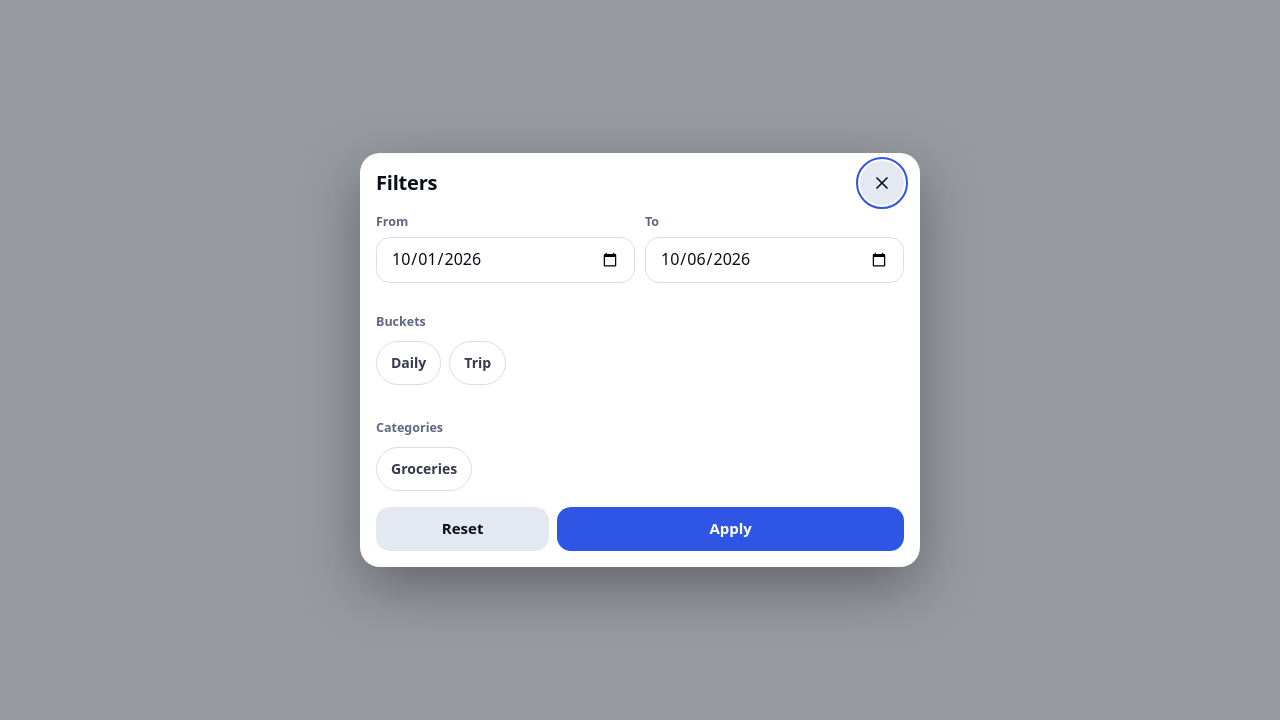
Scenario: RangeSheet › refuses From after To and an empty date
Type "2026-10-09" into the date field labelled "From" at (506, 260), box [376, 237, 635, 283]
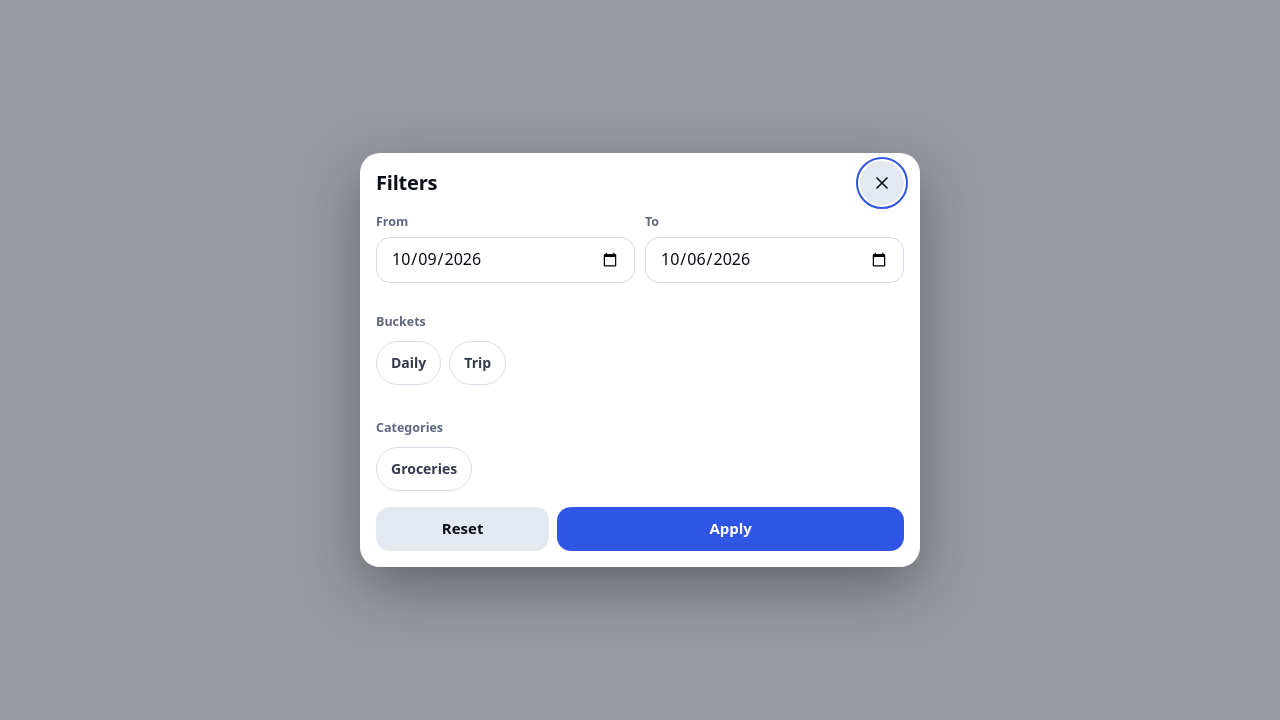
Click the button "Apply" at (731, 529), box [557, 507, 904, 551]
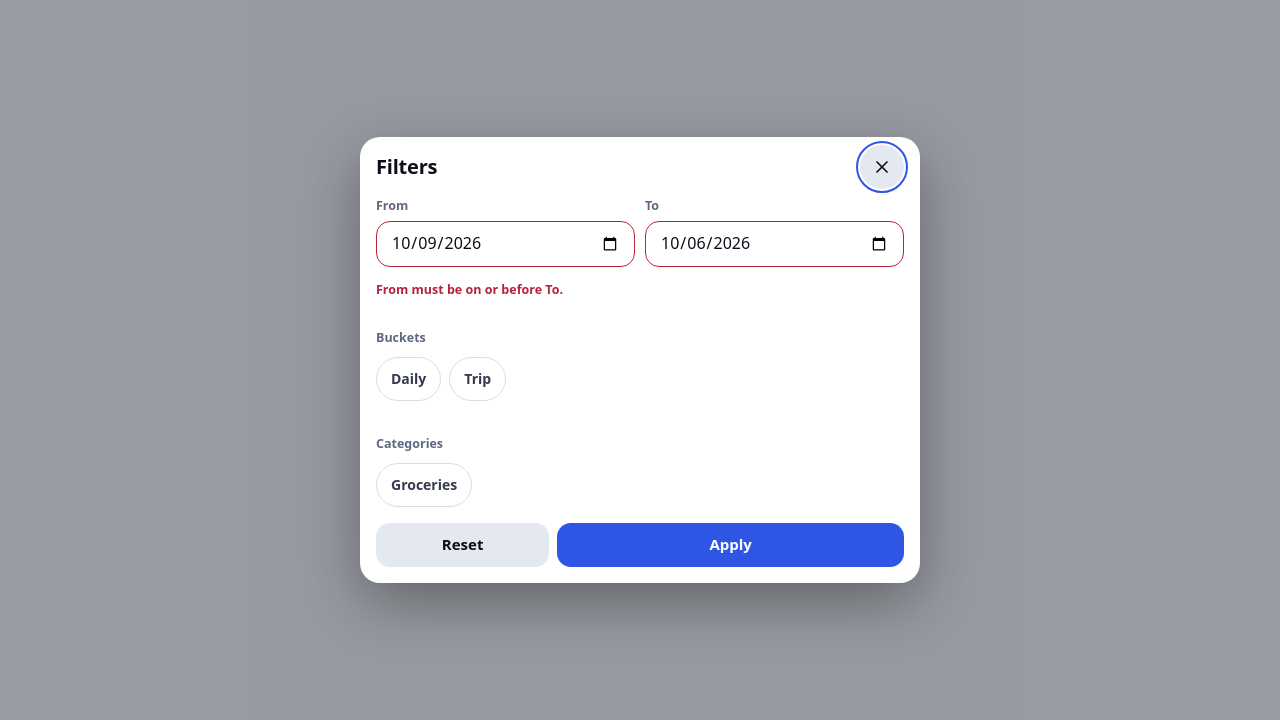
Expected: the text "From must be on or before To." is shown, [376, 281, 563, 298]
Clear the date field labelled "To" at (774, 244), box [645, 221, 904, 267]
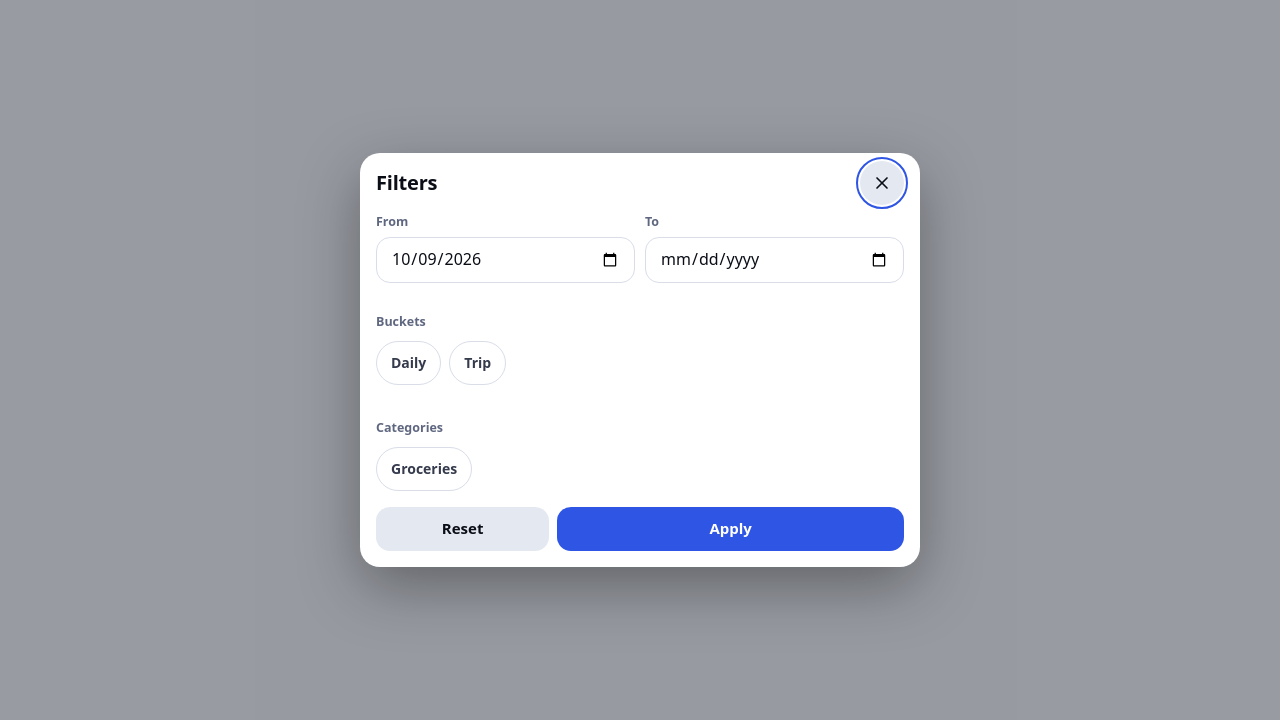
Click the button "Apply" at (731, 529), box [557, 507, 904, 551]
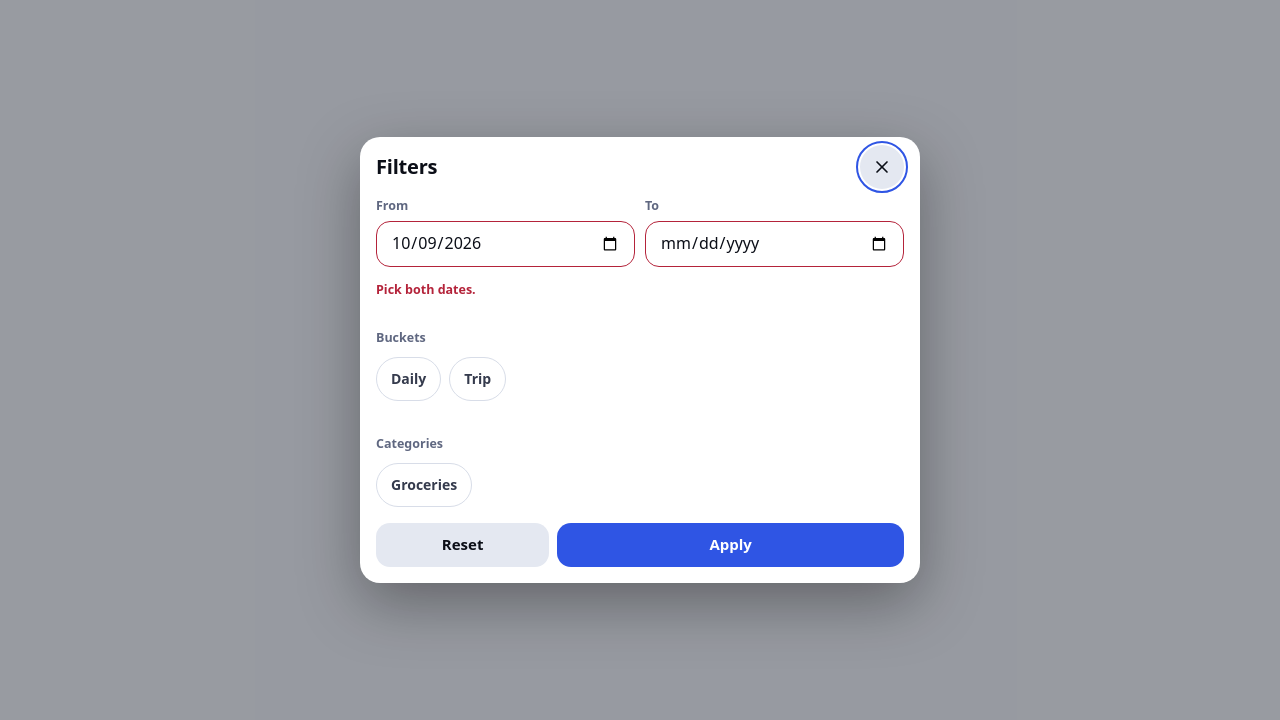
Expected: the text "Pick both dates." is shown, [376, 281, 476, 298]
